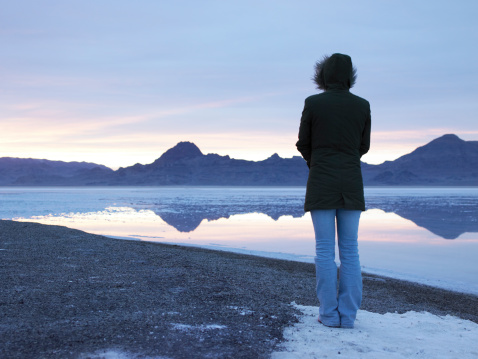em pe: (289, 48, 365, 328)
